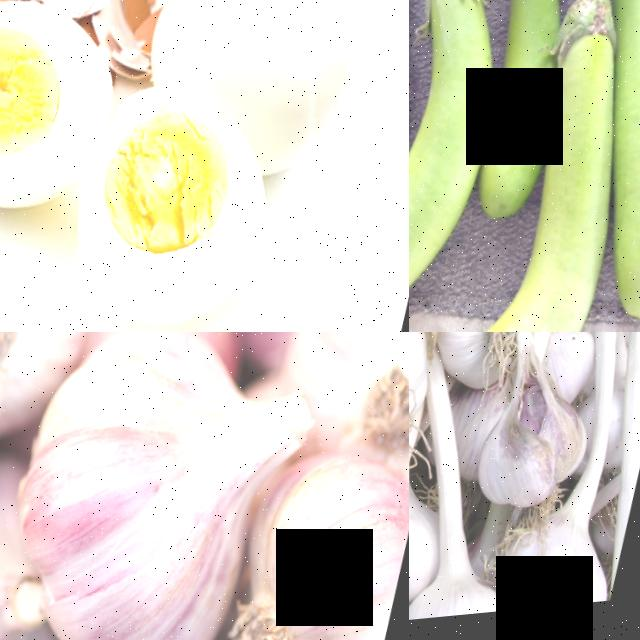egg_: (39, 77, 294, 332), (129, 0, 380, 154), (0, 0, 131, 238)
garlic: (0, 332, 297, 640), (205, 433, 409, 640), (487, 498, 621, 621), (409, 550, 515, 628), (419, 332, 527, 407)
